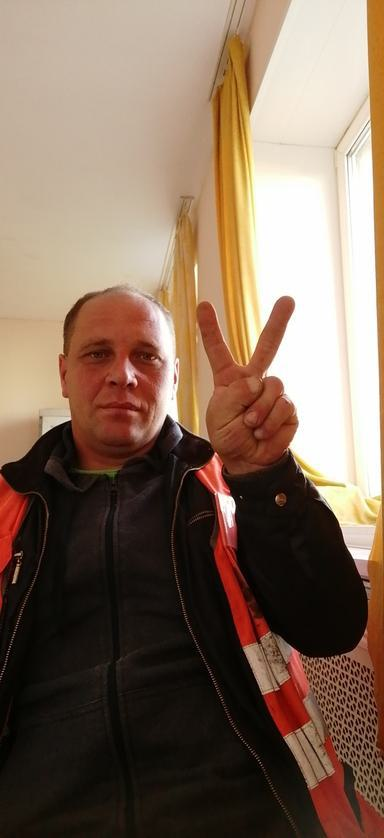peace: (194, 294, 302, 470)
